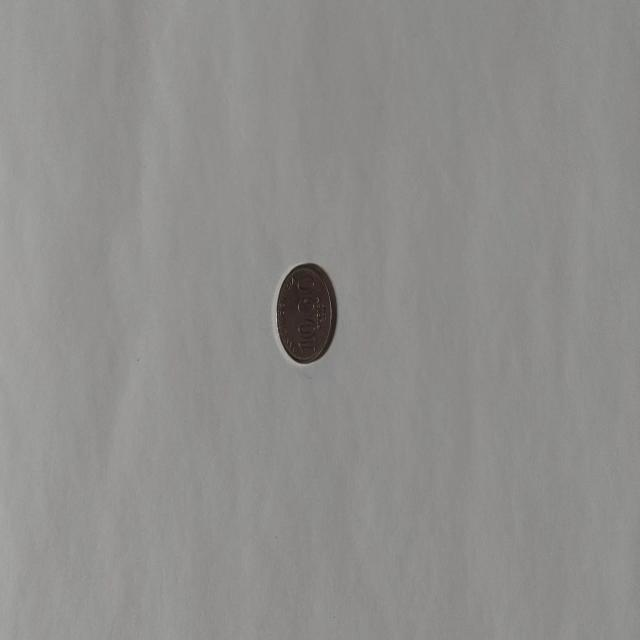seribu rupiah koin: (274, 260, 336, 366)
